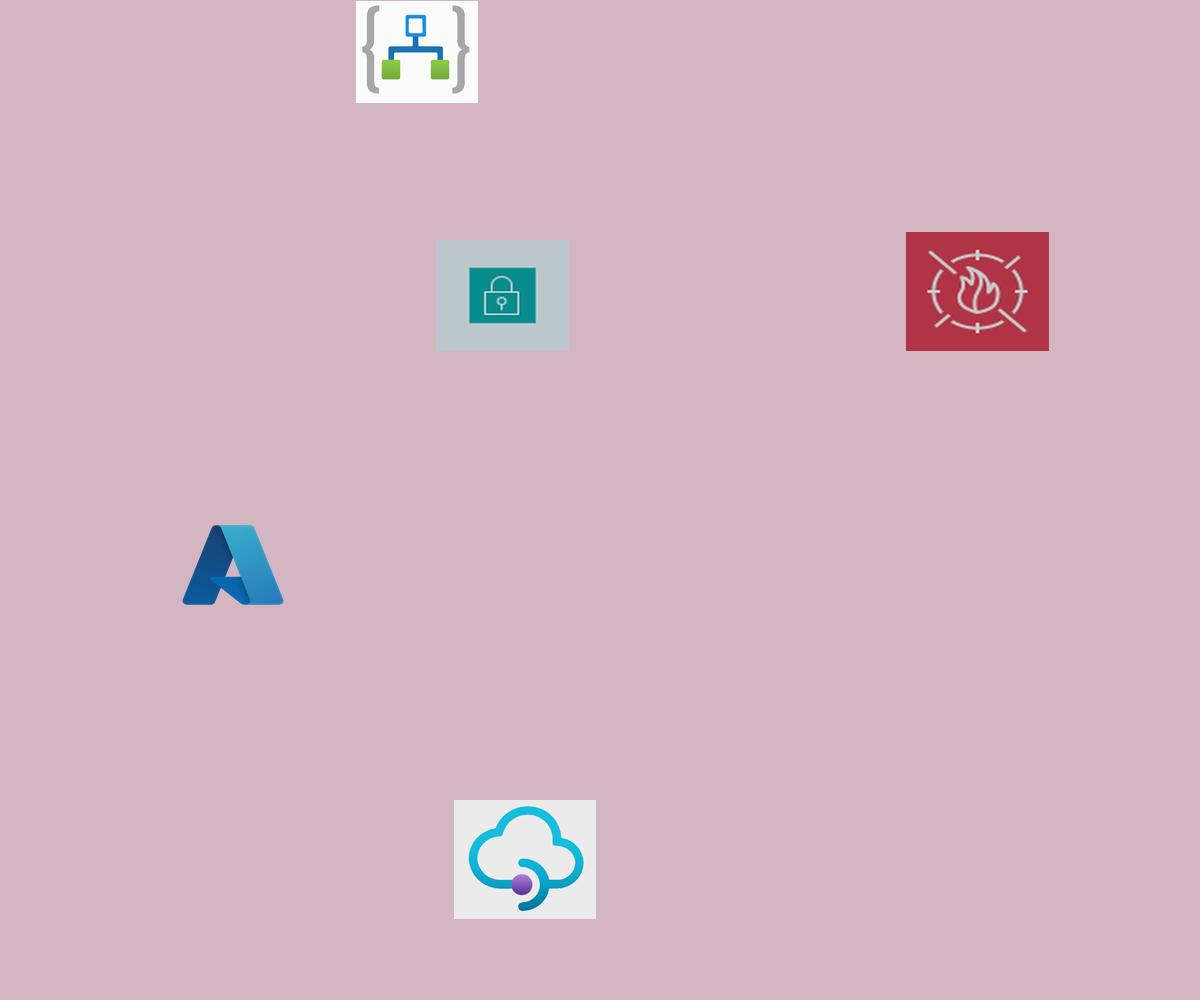AWS-Private-subnet: (436, 240, 569, 351)
AWS-WAF: (906, 232, 1049, 351)
Azure_api_gateway: (454, 800, 596, 919)
Azure_integration-204-Logic-Apps: (356, 1, 478, 103)
Azure_services: (178, 519, 288, 611)
